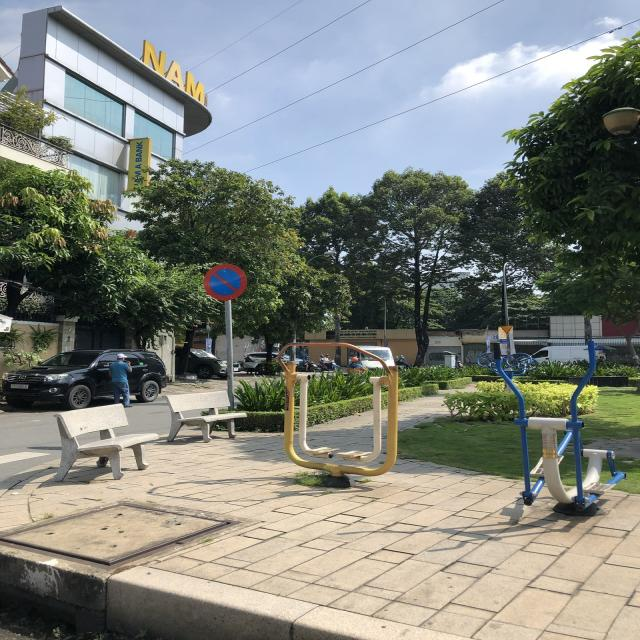Bien bao cam do xe: (199, 256, 251, 302)
